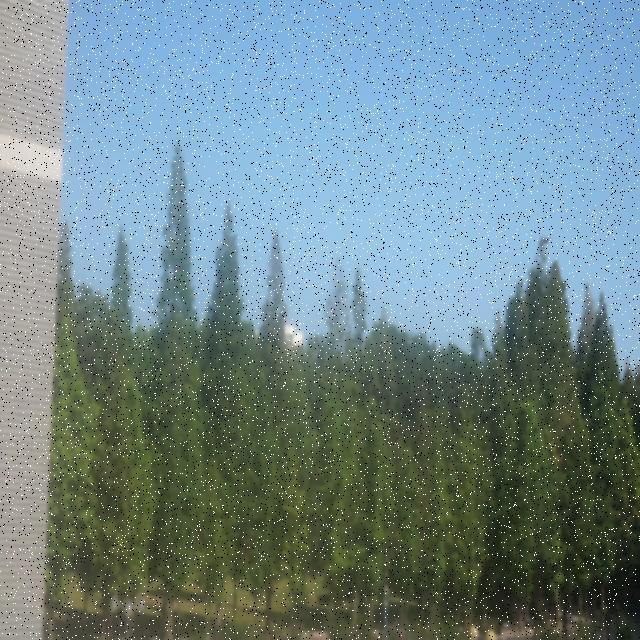UAV: (543, 237, 551, 244)
